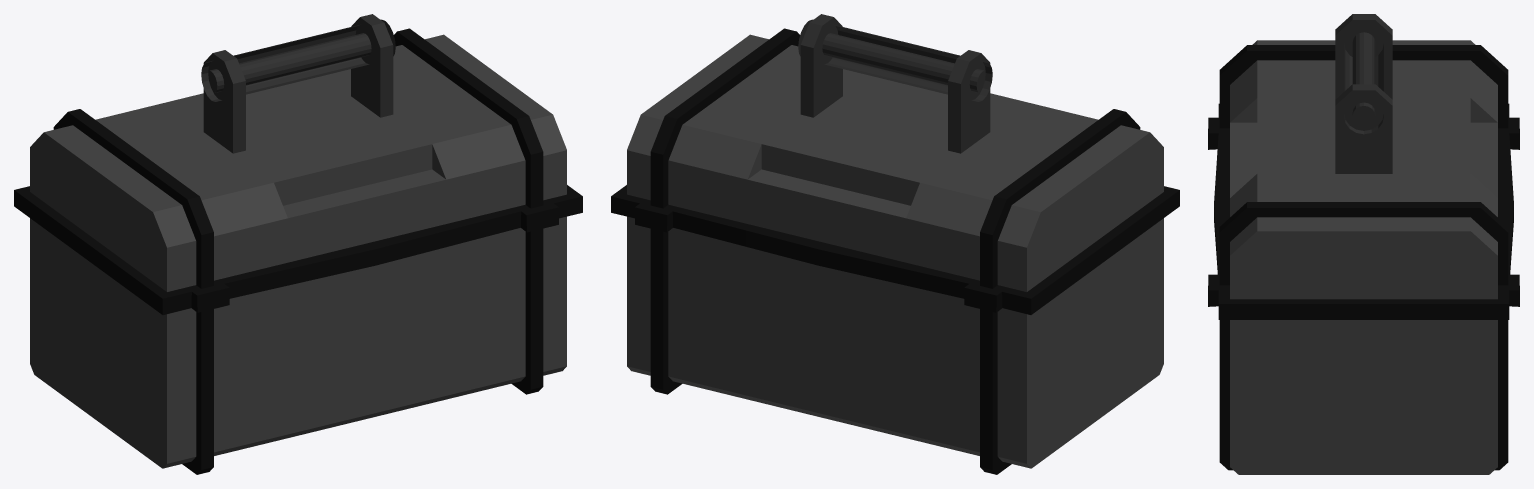
File: Toolbox.glb
3 renders of one model, left to right at view 1: azimuth 30°, elevation 25°; view 2: azimuth 150°, elevation 25°; view 3: azimuth 270°, elevation 25°, orthographic. The views are drawn at different scales.
Parts seen in each view (by area): view 1: Toolbox; view 2: Toolbox; view 3: Toolbox.
Part boxes in pixels (x1,y1,x2,y2): Toolbox: (14,14,582,474); Toolbox: (611,14,1179,474); Toolbox: (1208,14,1519,474).
Bounding box in the file's own units: 2.1 × 1.65 × 1.38.
1 material, 1 textured.
